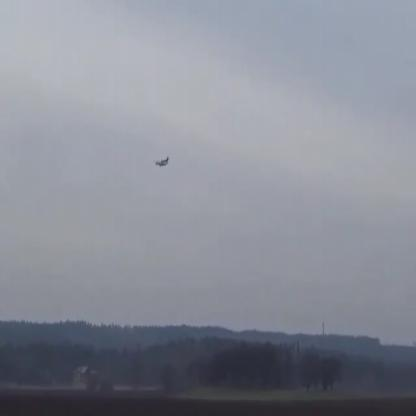CIV_Plane: (153, 156, 169, 168)
